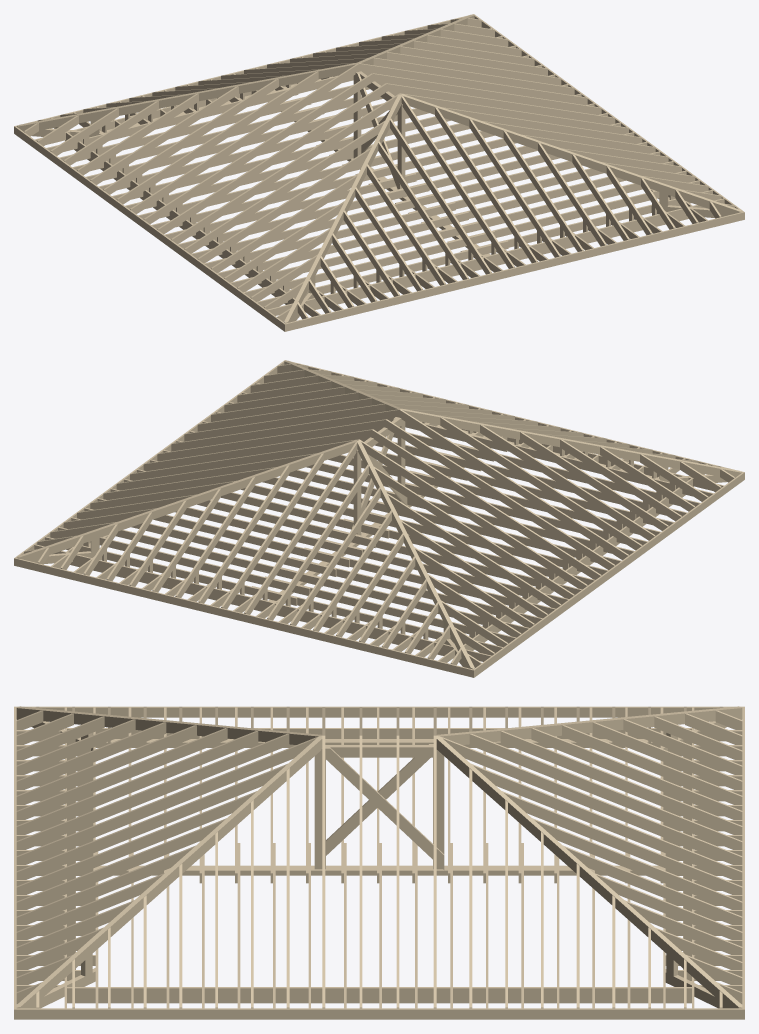
The model's file is dpk-node.glb.
3 views of the same model, one above another, from view 1: azimuth 30°, elevation 25°; view 2: azimuth 150°, elevation 25°; view 3: azimuth 270°, elevation 25° (orthographic). The views are drawn at different scales.
Parts seen in each view (by area): view 1: Fake; view 2: Fake; view 3: Fake.
Boxes of the visible parts, x1,y1,x2,y2 form: Fake: (14, 14, 744, 331); Fake: (14, 360, 744, 677); Fake: (14, 706, 744, 1019).
Size of the model in its own units: 12.63 by 2.68 by 12.88.
